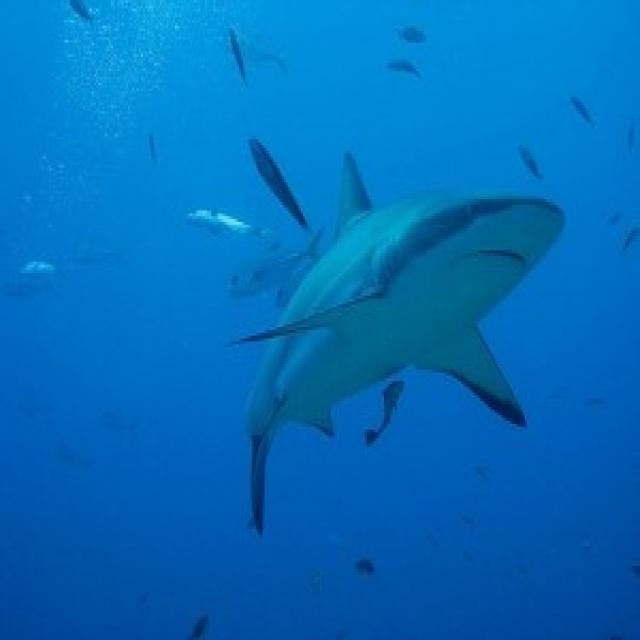Shark: (223, 151, 554, 536)
